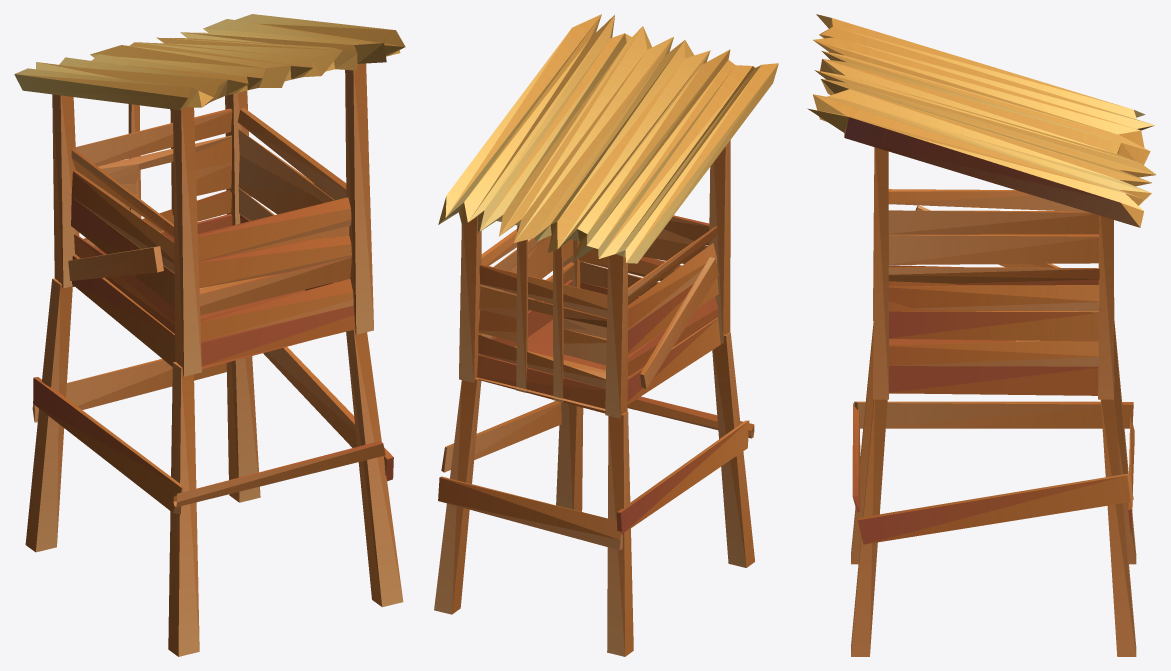
The model's file is GL-Manmade-11-LOD2.fbx.
3 views of the same model, side by side, from view 1: azimuth 30°, elevation 25°; view 2: azimuth 150°, elevation 25°; view 3: azimuth 270°, elevation 25° (orthographic). The views are drawn at different scales.
Visible parts, largest first — view 1: GL_Manmade_11; view 2: GL_Manmade_11; view 3: GL_Manmade_11.
Part boxes in pixels (x1,y1,x2,y2): GL_Manmade_11: (14,14,405,656); GL_Manmade_11: (434,14,778,656); GL_Manmade_11: (807,14,1156,656).
Size of the model in its own units: 1.05 by 2.48 by 1.45.
